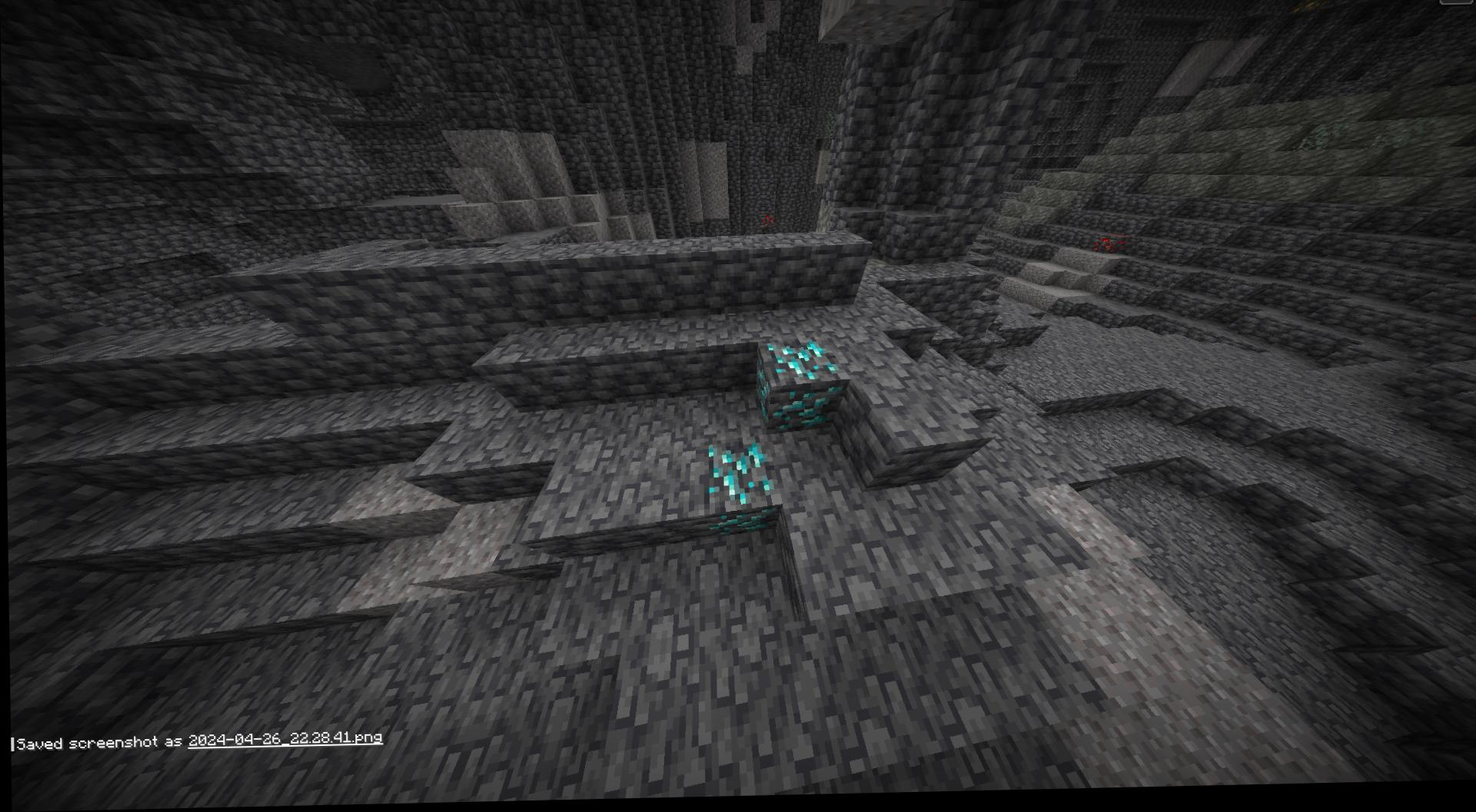diamond ore: (695, 442, 778, 543), (749, 339, 839, 432)
gold ore: (1294, 0, 1335, 20)
redstone ore: (1092, 234, 1131, 262), (759, 215, 776, 234)
